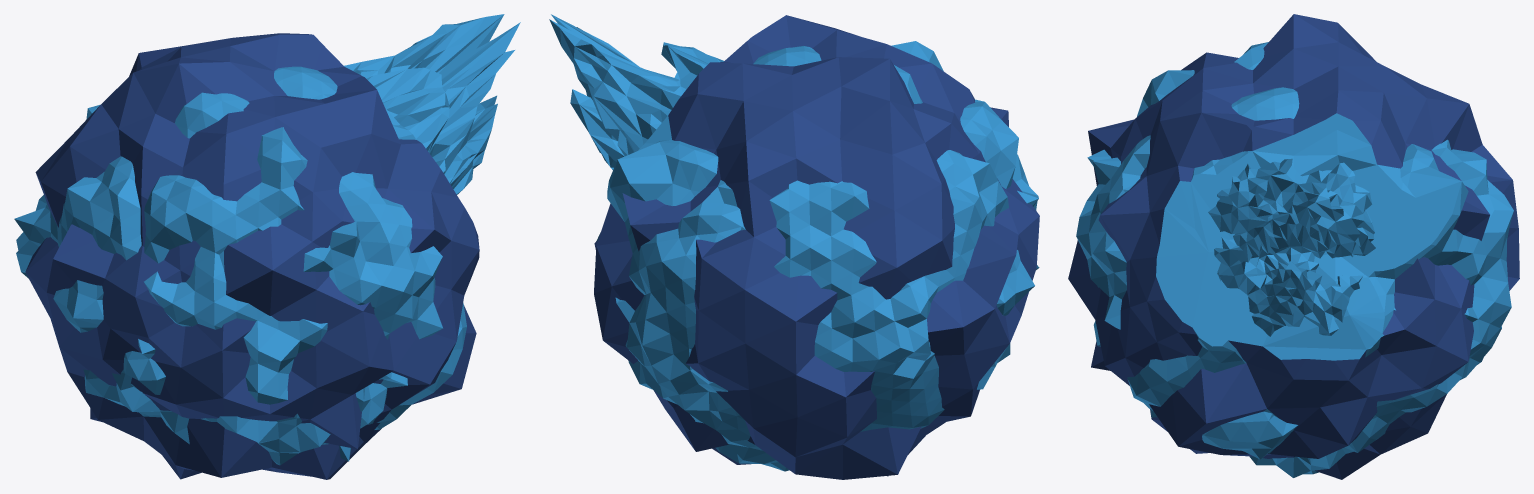
The model's file is SP_Planet.fbx.
The picture shows the model from 3 angles, left to right: view 1: azimuth 30°, elevation 25°; view 2: azimuth 150°, elevation 25°; view 3: azimuth 270°, elevation 25°; orthographic projection. The views are drawn at different scales.
Visible parts, largest first — view 1: SP_Planet; view 2: SP_Planet; view 3: SP_Planet.
Boxes of the visible parts, x1=… form: SP_Planet: x1=14, y1=14, x2=520, y2=479; SP_Planet: x1=549, y1=14, x2=1039, y2=479; SP_Planet: x1=1068, y1=14, x2=1519, y2=479.
Size of the model in its own units: 1255 by 1096 by 1085.
1 material, 1 textured.
